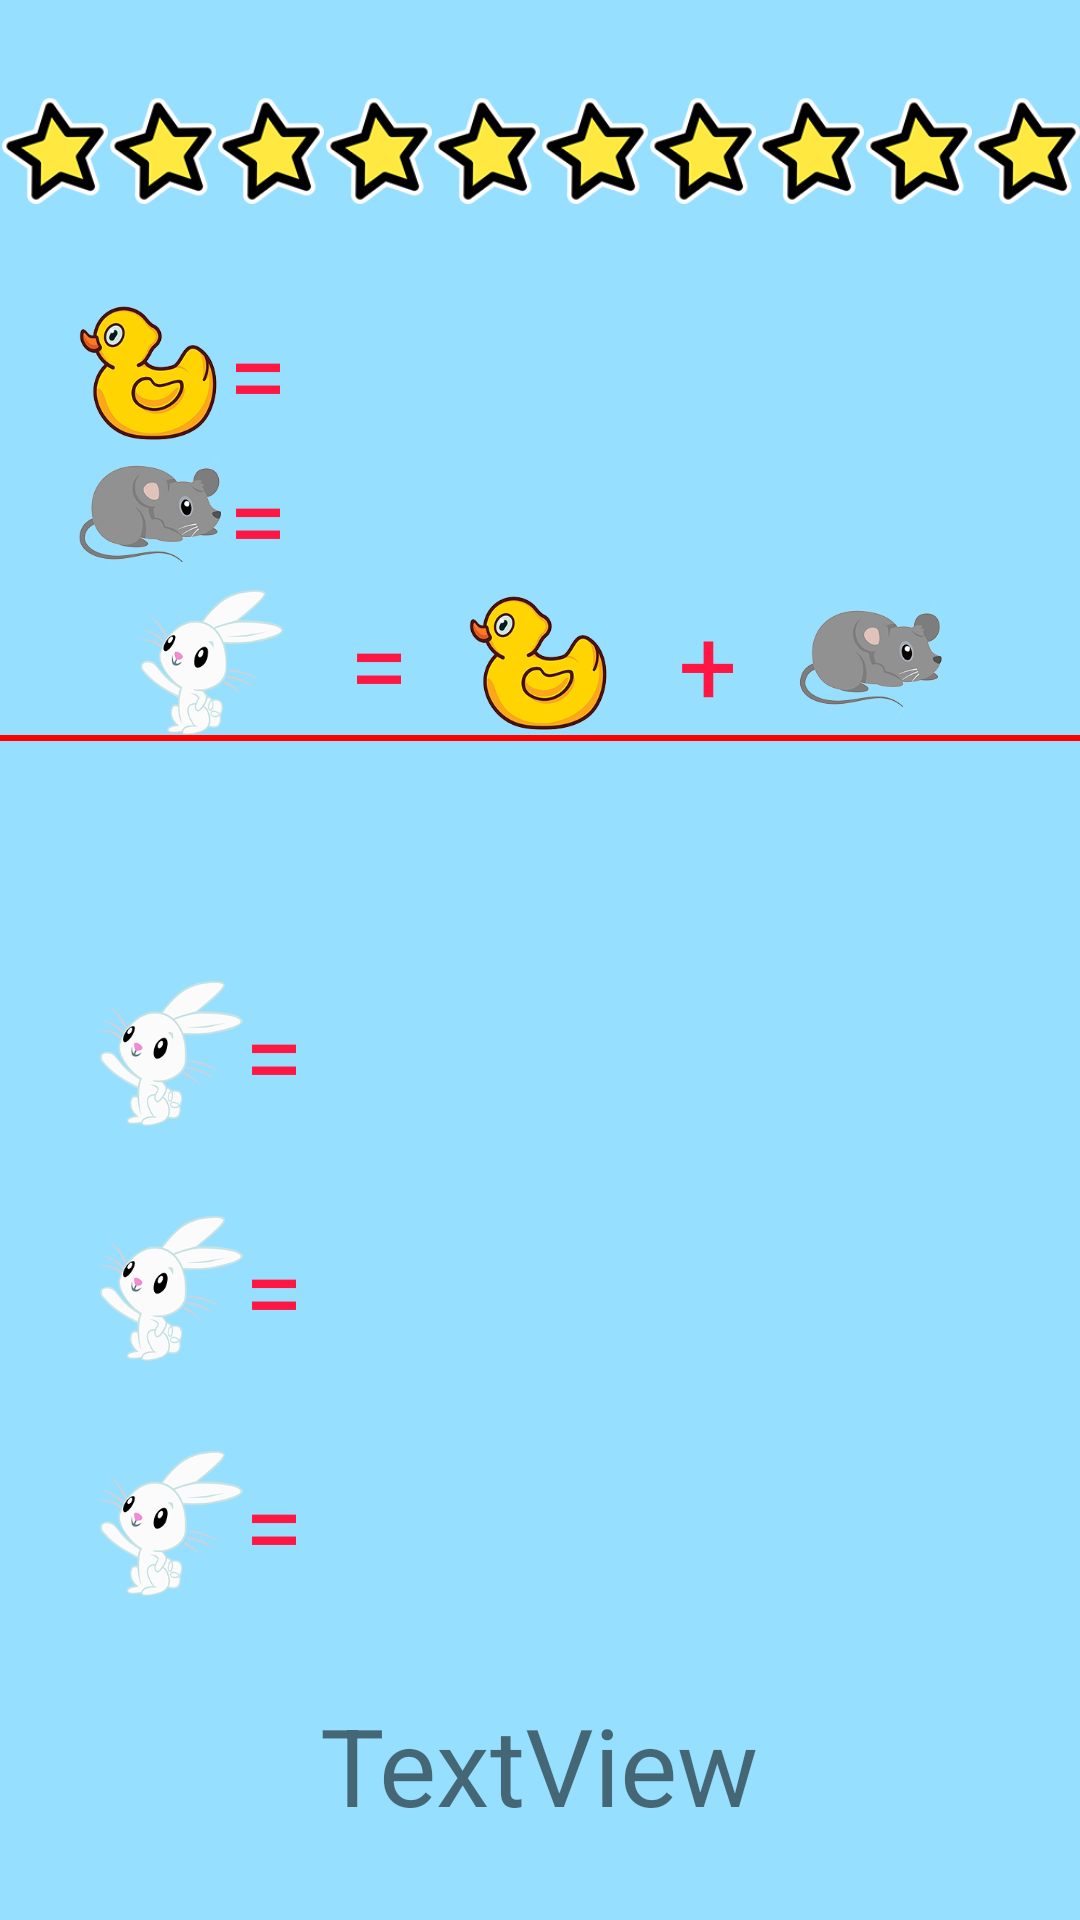

Icon click points for this 1080px x 1920px phone screenshot, format (x,y):
duck: (148,373), (538,663)
mouse: (150,513), (871,658)
